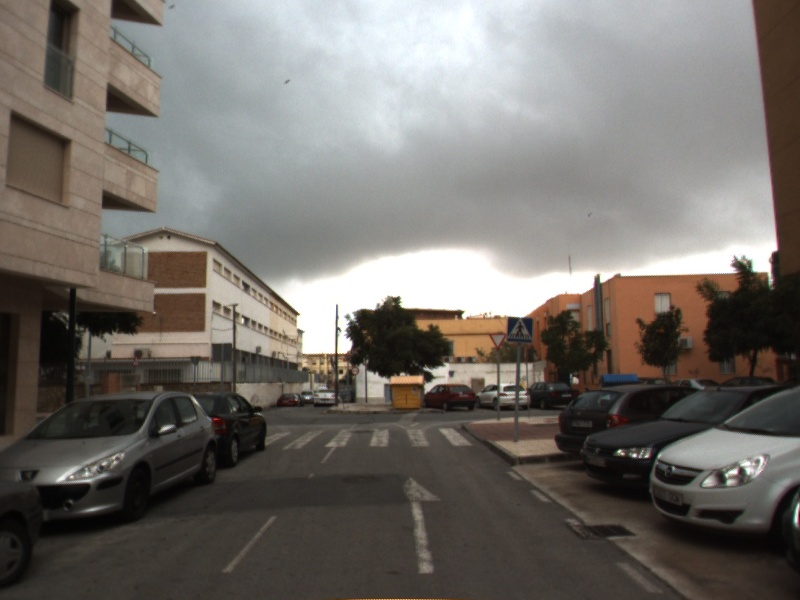STRAIGHT: (405, 473, 445, 576)
